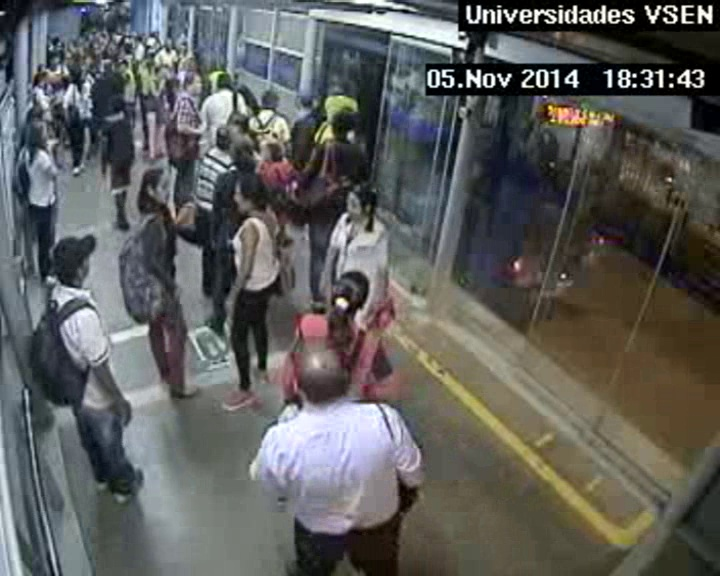person: (292, 339, 356, 406), (53, 235, 96, 285), (329, 270, 369, 317), (232, 173, 274, 215), (137, 167, 173, 209), (345, 188, 379, 225), (232, 143, 256, 169), (329, 113, 351, 137), (227, 111, 249, 135), (27, 123, 48, 146), (183, 72, 203, 95), (264, 142, 285, 163), (214, 127, 232, 148), (351, 112, 369, 131), (261, 91, 280, 109), (107, 95, 124, 114), (183, 57, 200, 73), (300, 95, 316, 111), (238, 83, 253, 99), (29, 109, 43, 125), (69, 65, 83, 80), (218, 74, 232, 89), (331, 81, 346, 95), (83, 52, 97, 66), (36, 72, 50, 86), (49, 54, 61, 68), (163, 38, 175, 51), (119, 59, 131, 71), (152, 68, 163, 79), (164, 80, 175, 91), (179, 43, 189, 54), (104, 61, 114, 72), (214, 59, 224, 70), (51, 36, 60, 46), (147, 53, 156, 63), (147, 34, 156, 43), (124, 45, 133, 54), (98, 34, 106, 43), (145, 40, 153, 49), (122, 37, 130, 45), (87, 33, 95, 41), (102, 51, 110, 59), (115, 34, 122, 43), (124, 24, 131, 32), (136, 36, 143, 44), (58, 42, 64, 49), (116, 26, 122, 33), (102, 26, 107, 33)
